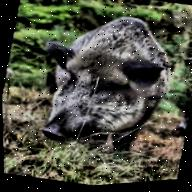boar: (22, 0, 184, 176)
